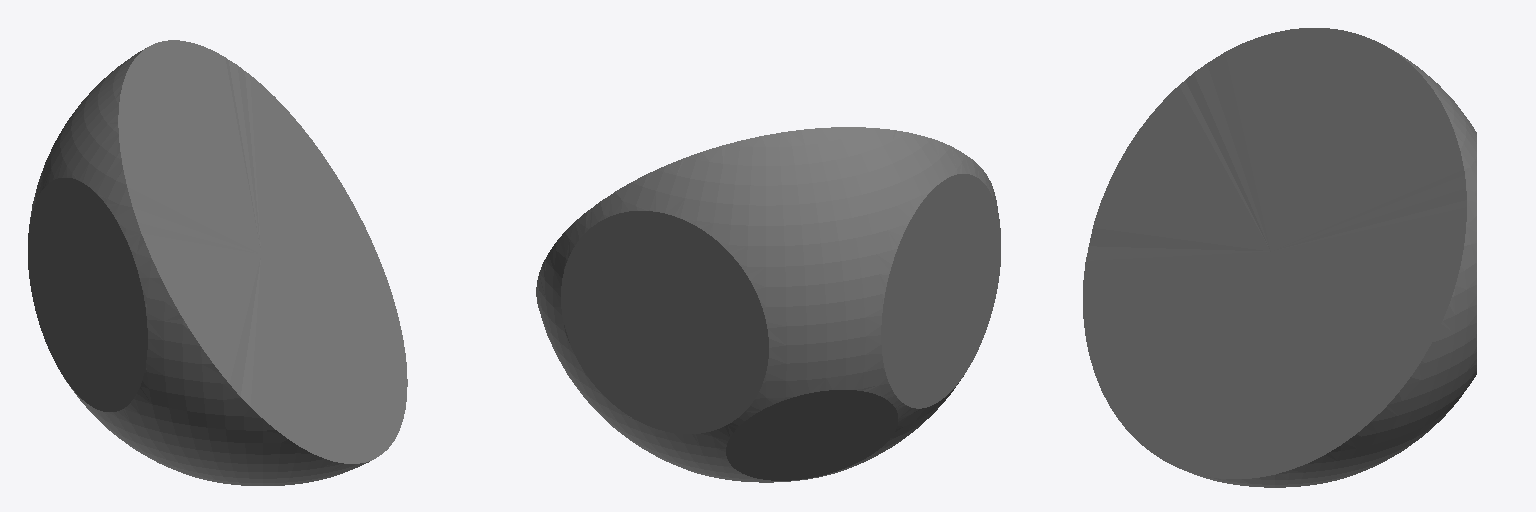
The model's file is hemisphere_with_triangle_fans.obj.
The picture shows the model from 3 angles: view 1: azimuth 30°, elevation 25°; view 2: azimuth 150°, elevation 25°; view 3: azimuth 270°, elevation 25°; orthographic projection.
Visible parts, largest first — view 1: <STL_BINARY>; view 2: <STL_BINARY>; view 3: <STL_BINARY>.
Part boxes in pixels (x1,y1,x2,y2): <STL_BINARY>: (28, 40, 407, 485); <STL_BINARY>: (536, 127, 1000, 482); <STL_BINARY>: (1083, 28, 1476, 487).
Bounding box in the file's own units: 0.9931 × 0.9931 × 0.9931.